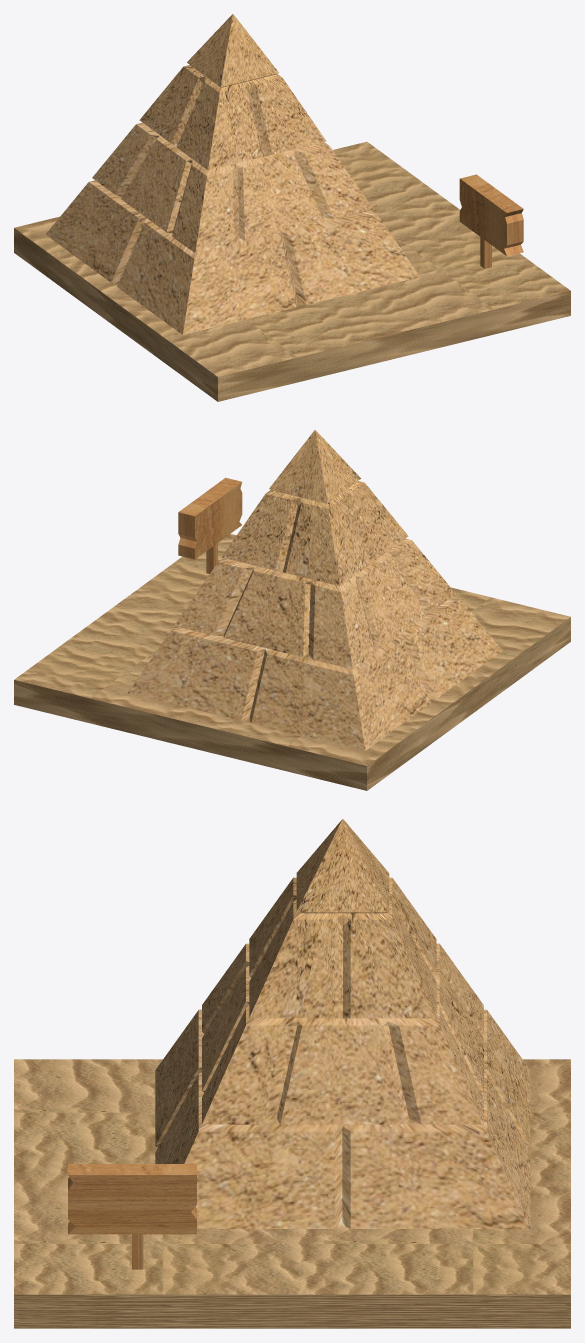
File: entornoArena.glb
3 renders of one model, top to bottom at view 1: azimuth 30°, elevation 25°; view 2: azimuth 150°, elevation 25°; view 3: azimuth 270°, elevation 25°, orthographic. The views are drawn at different scales.
Visible parts, largest first — view 1: Cube.002, Cube, Cube.001; view 2: Cube.002, Cube, Cube.001; view 3: Cube.002, Cube, Cube.001.
Part boxes in pixels (x1,y1,x2,y2): Cube.002: (45,14,420,334); Cube: (14,141,570,401); Cube.001: (459,174,523,268); Cube.002: (128,430,502,750); Cube: (14,533,570,790); Cube.001: (178,477,242,573); Cube.002: (155,819,530,1228); Cube: (14,1059,570,1328); Cube.001: (68,1164,196,1269).
Bounding box in the file's own units: 11.41 × 8.23 × 11.41.
Materials: 3 (3 with a texture image).
